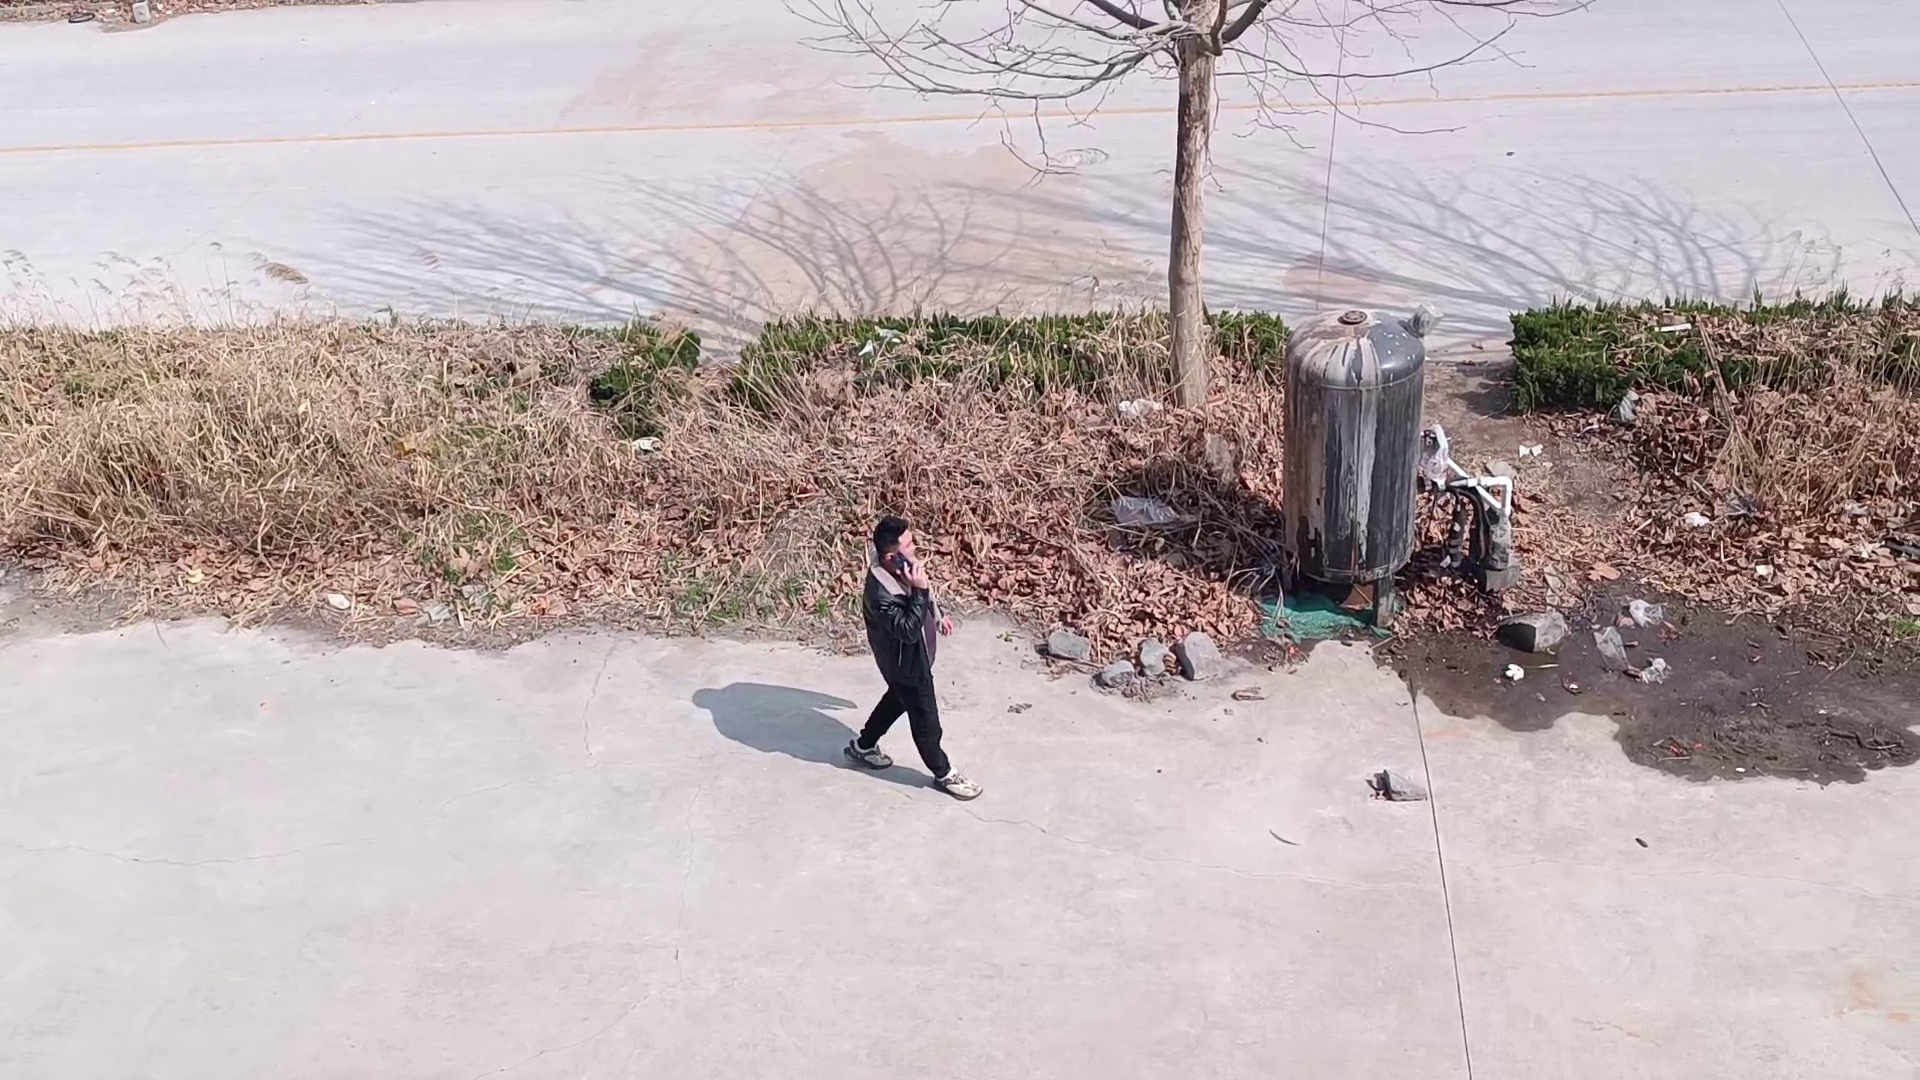phone: (872, 516, 916, 582)
